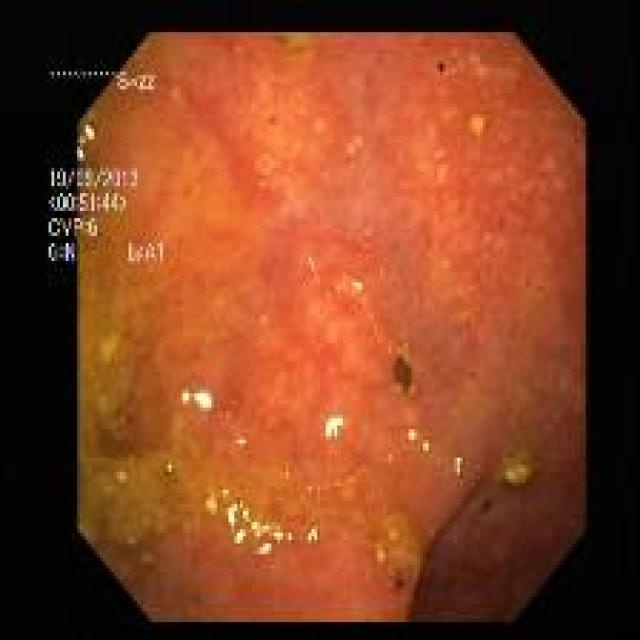ulcerative-colitis: (50, 33, 586, 623)
